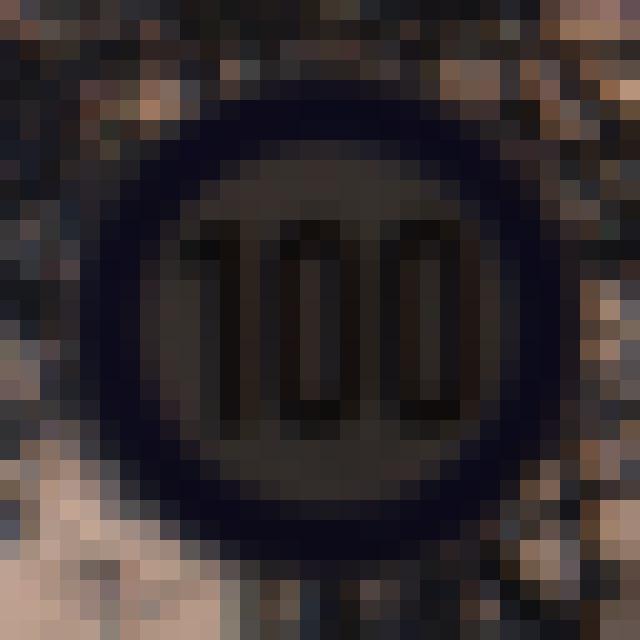SPEED LIMIT 100: (69, 95, 557, 563)
